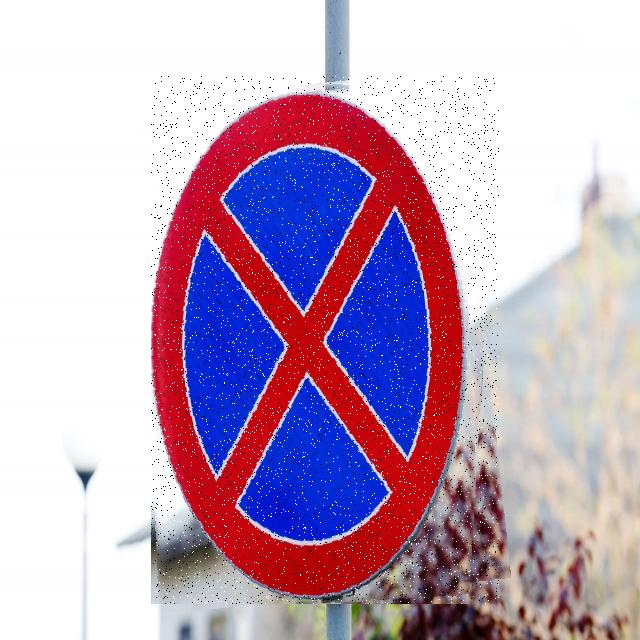no stopping: (151, 76, 499, 604)
